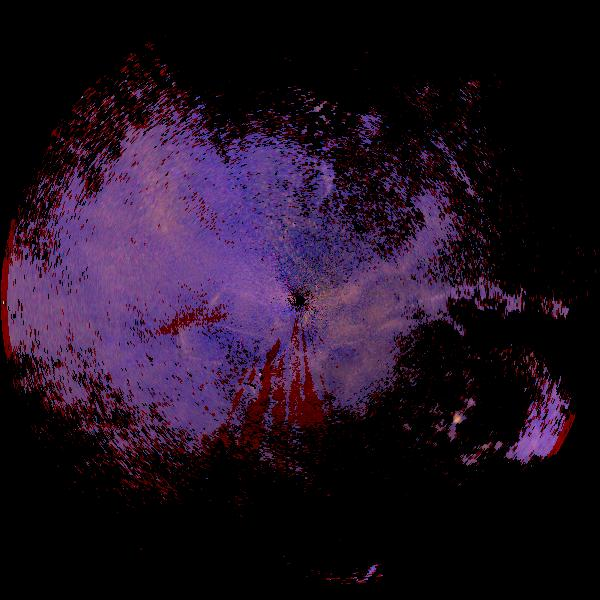roost: (116, 311, 212, 407)
